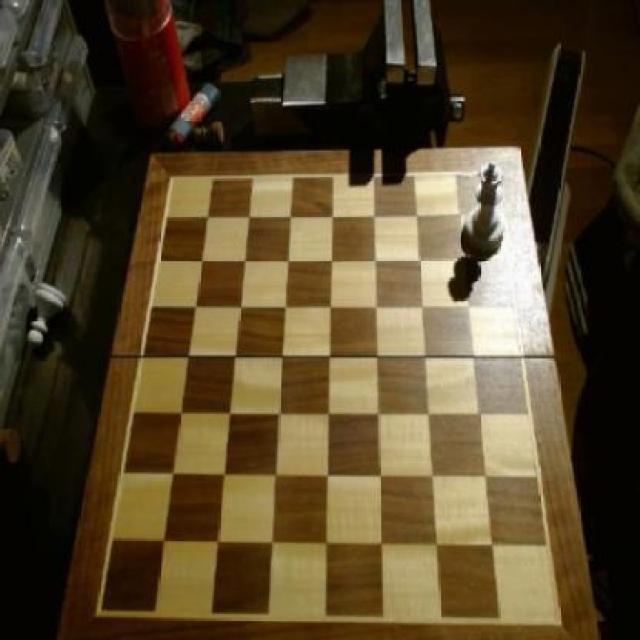white-pawn: (463, 156, 509, 256)
